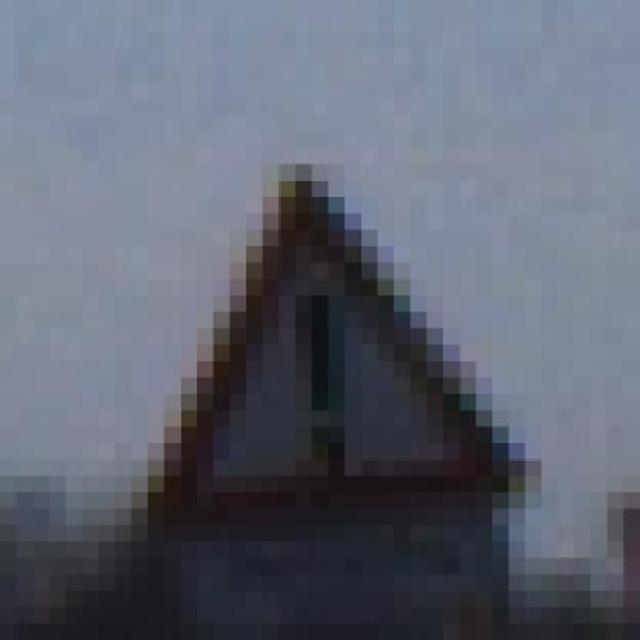Attention Please-: (99, 147, 558, 558)
